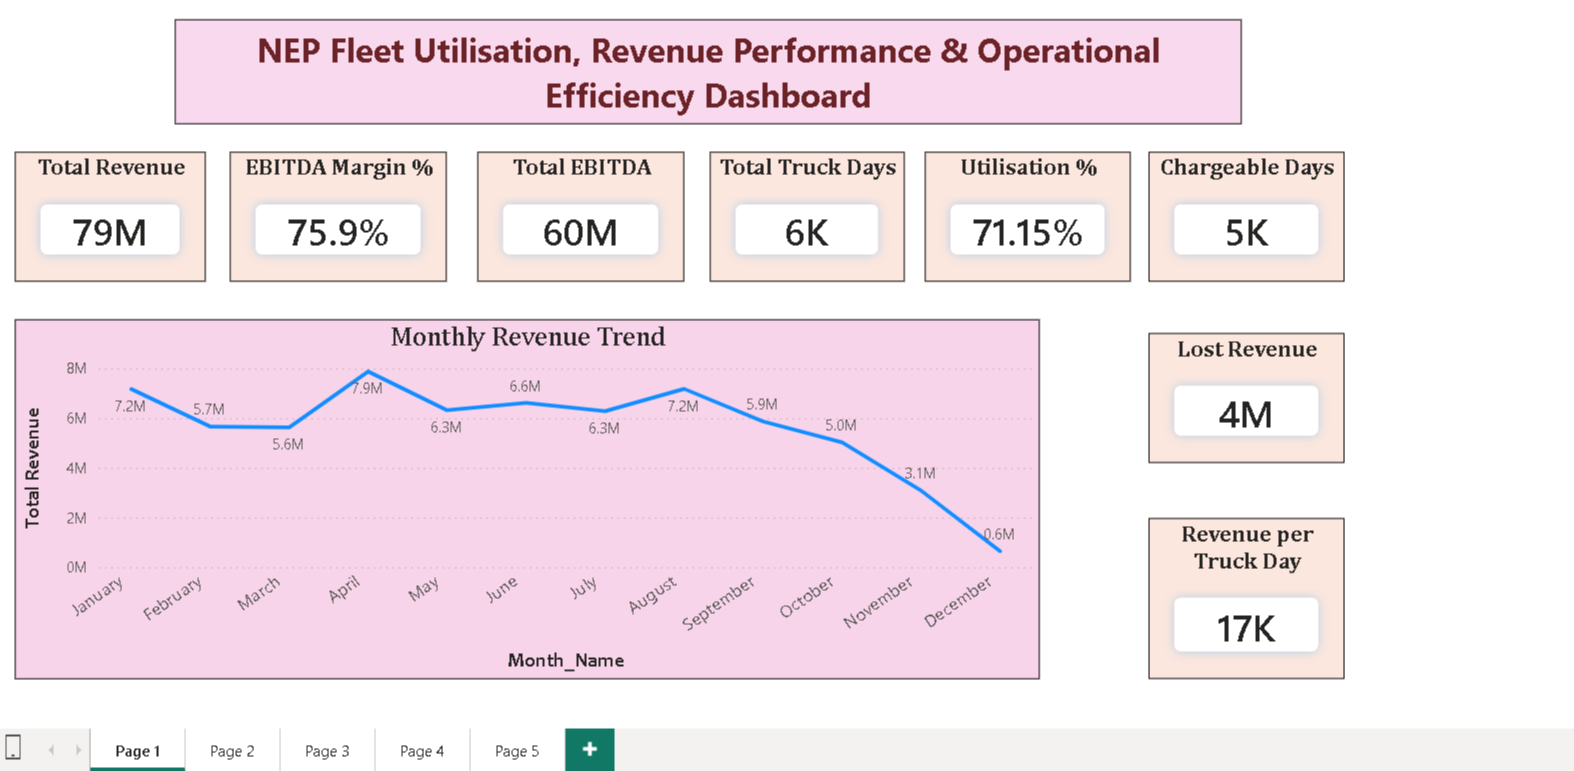

The dashboard page shown, as its layout file describes it:
{"tool":"powerbi","page":{"name":"Page 1","canvas":[1280,720],"ordinal":0},"visuals":[{"type":"cardVisual","title":"EBITDA Margin %","fields":{"Data":["fact_truck_day.EBITDA Margin %"]},"box":[189,125,174,104],"z":0},{"type":"cardVisual","title":"Total EBITDA ","fields":{"Data":["fact_truck_day.Total EBITDA"]},"box":[387.2,125.4,166,104],"z":1000},{"type":"cardVisual","title":"Utilisation %","fields":{"Data":["fact_truck_day.Utilisation %"]},"box":[745,125,165,104],"z":2000},{"type":"cardVisual","title":"Chargeable Days","fields":{"Data":["fact_truck_day.Chargeable Days"]},"box":[924,125,157,104],"z":3000},{"type":"cardVisual","title":"Total Truck Days","fields":{"Data":["fact_truck_day.Total Truck Days"]},"box":[573,125,156,104],"z":4000},{"type":"cardVisual","title":"Total Revenue","fields":{"Data":["fact_truck_day.Total Revenue"]},"box":[17,125,153,104],"z":5000},{"type":"lineChart","title":"Monthly Revenue Trend","fields":{"Y":["fact_truck_day.Total Revenue"],"Category":["dim_calendar.Month_Name"]},"box":[16.8,259,820,288],"z":6000},{"type":"cardVisual","title":"Lost Revenue","fields":{"Data":["fact_truck_day.Lost Revenue"]},"box":[924,270,157,104],"z":7000},{"type":"cardVisual","title":"Revenue per Truck Day","fields":{"Data":["fact_truck_day.Revenue per Truck Day"]},"box":[924,418,157,129],"z":8000},{"type":"textbox","box":[145,19,854,84],"z":8001}]}

Visuals, with their boxes on the page's 1280x720 design canvas (x1, y1, x2, y2). These are canvas units, not pixel positions in the 1574x771 screenshot, which may show the page scaled, cropped or inside an application window:
"EBITDA Margin %" cardVisual: box(189, 125, 363, 229)
"Total EBITDA " cardVisual: box(387, 125, 553, 229)
"Utilisation %" cardVisual: box(745, 125, 910, 229)
"Chargeable Days" cardVisual: box(924, 125, 1081, 229)
"Total Truck Days" cardVisual: box(573, 125, 729, 229)
"Total Revenue" cardVisual: box(17, 125, 170, 229)
"Monthly Revenue Trend" lineChart: box(17, 259, 837, 547)
"Lost Revenue" cardVisual: box(924, 270, 1081, 374)
"Revenue per Truck Day" cardVisual: box(924, 418, 1081, 547)
textbox: box(145, 19, 999, 103)
